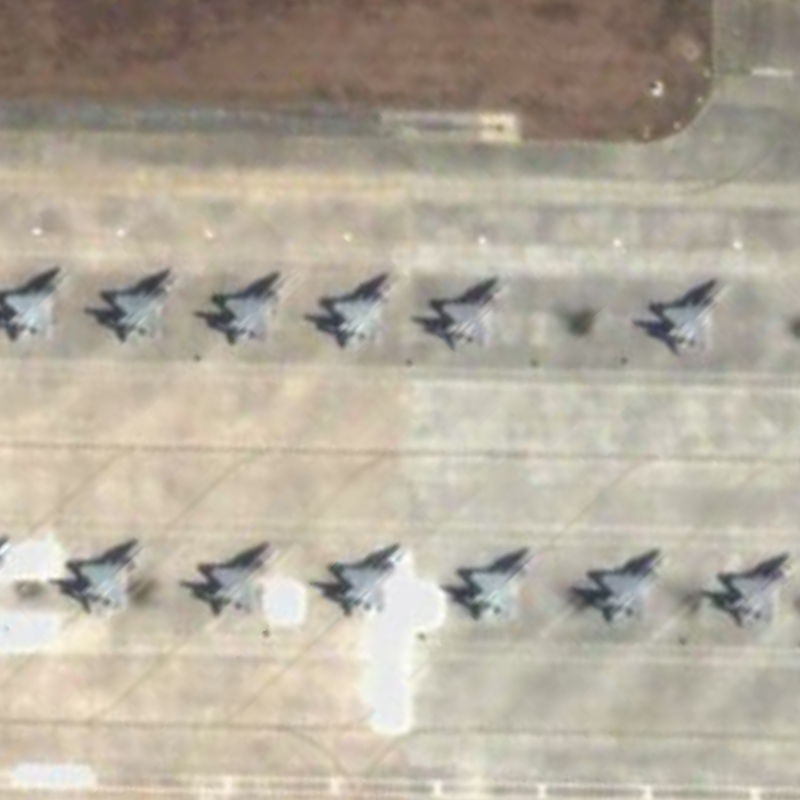A13: (203, 267, 304, 352), (708, 548, 800, 632), (58, 536, 150, 619), (314, 273, 407, 355), (582, 547, 675, 628), (98, 268, 192, 346), (429, 275, 517, 358), (324, 541, 411, 623), (193, 540, 281, 620), (648, 278, 737, 356), (451, 546, 536, 627), (1, 263, 75, 345)
